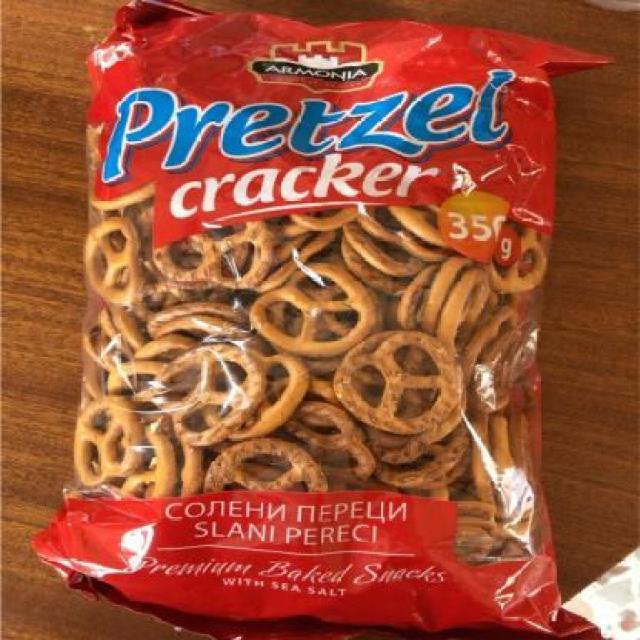Salatini: (69, 10, 602, 635)
